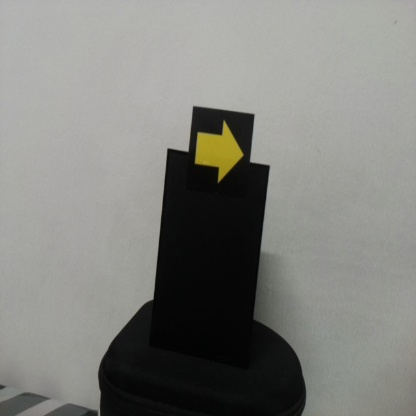id_3: (191, 108, 253, 195)
